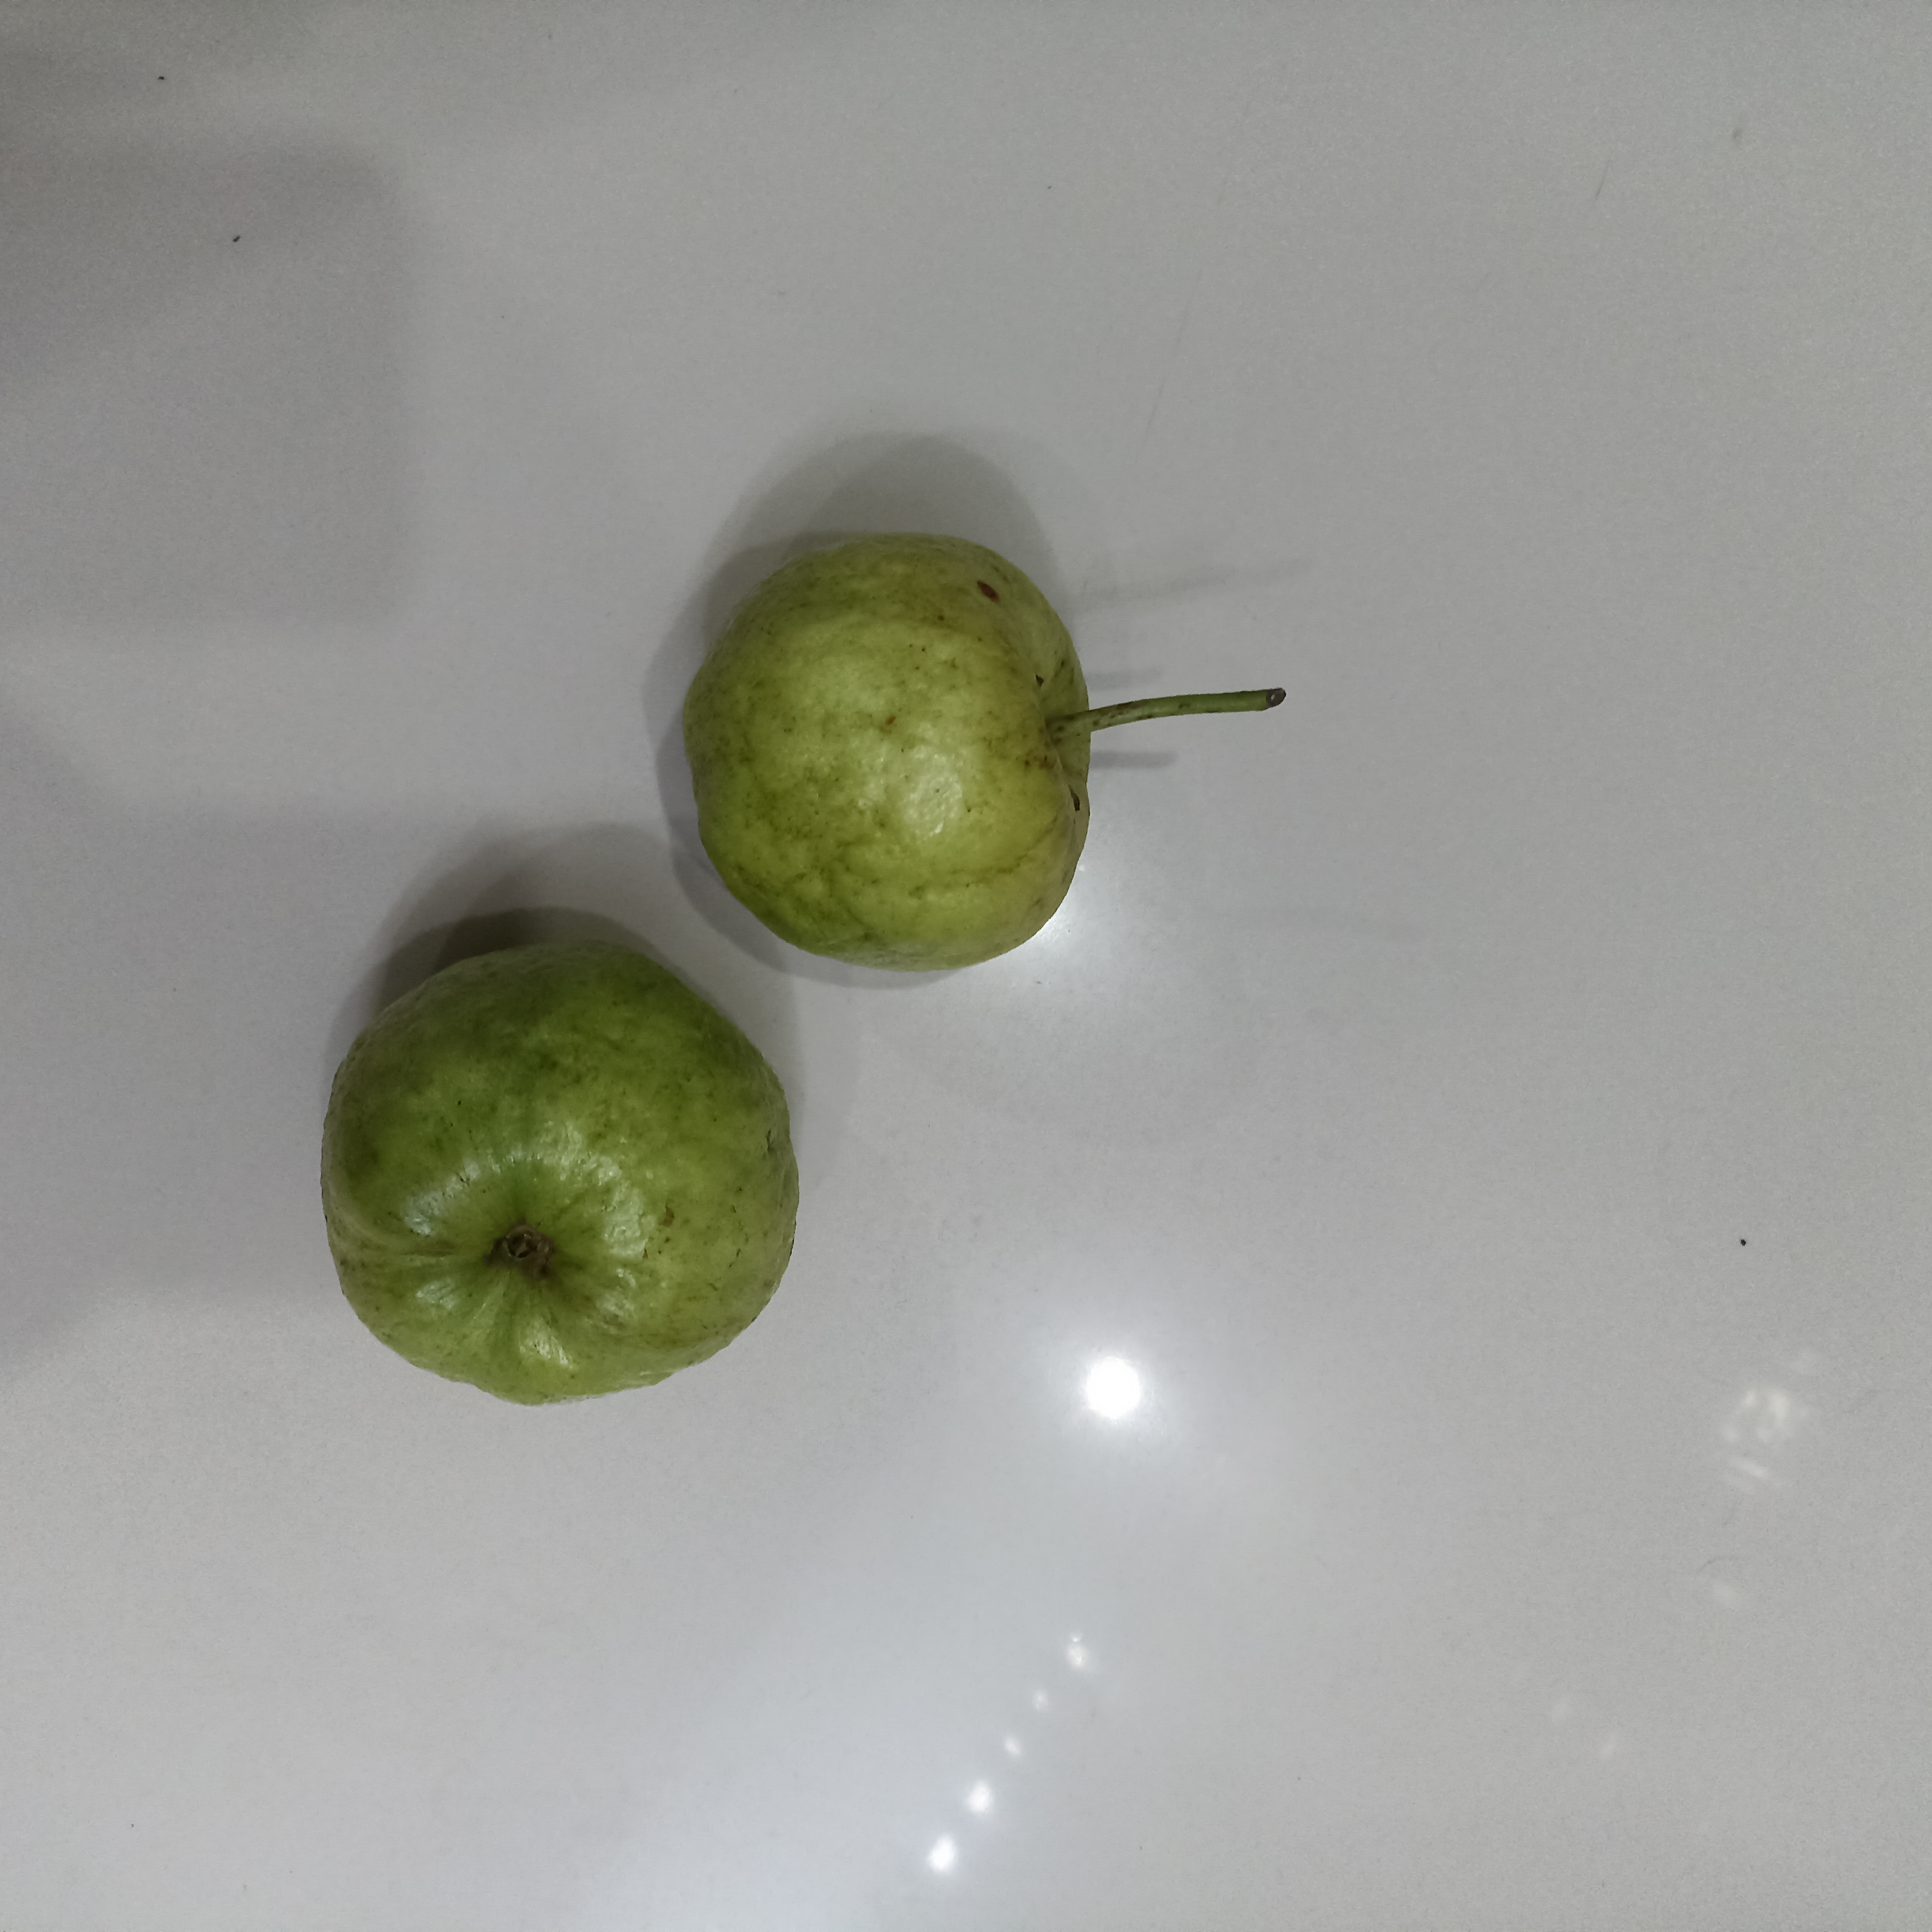Oi: (321, 940, 801, 1407), (685, 536, 1092, 975)
